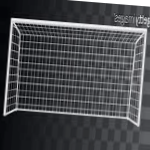goals: (3, 16, 148, 129)
